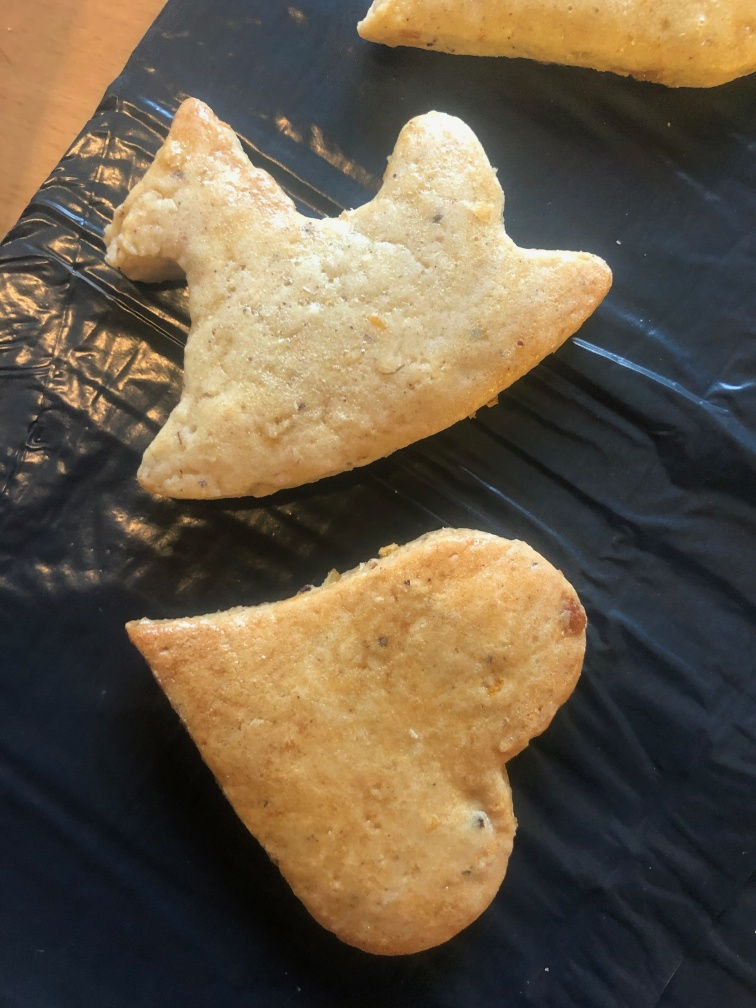heart: (105, 522, 594, 960)
lamb: (90, 77, 620, 506)
